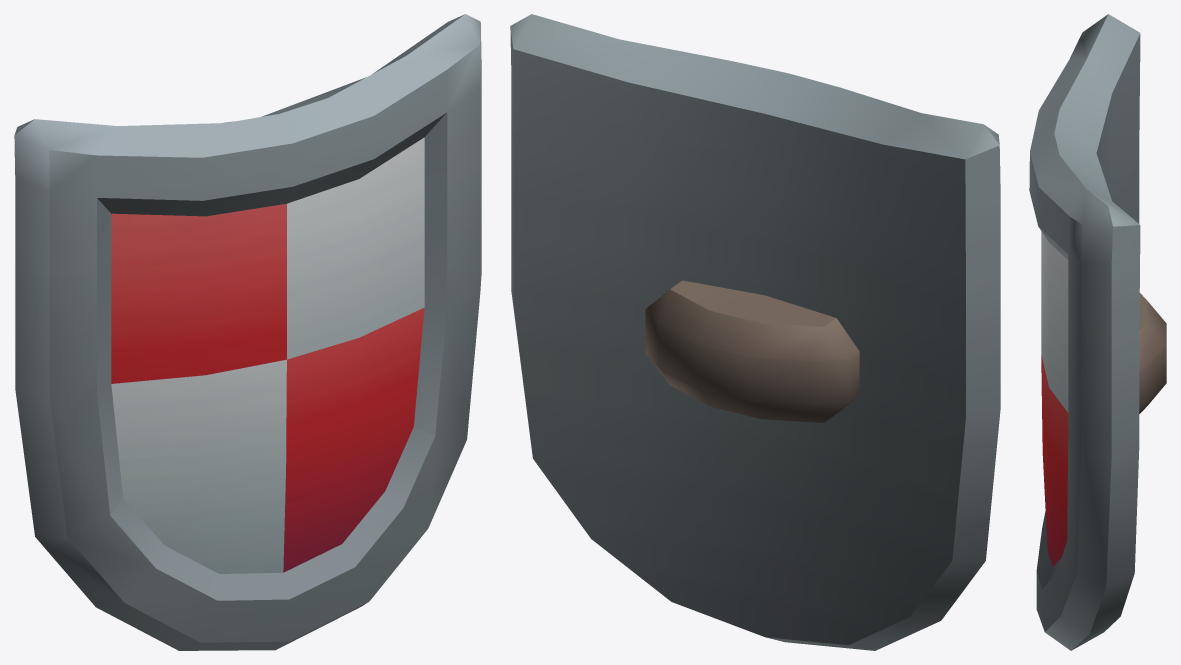
Rendered from shield_badge_color.glb.
3 renders of one model, left to right at view 1: azimuth 30°, elevation 25°; view 2: azimuth 150°, elevation 25°; view 3: azimuth 270°, elevation 25°, orthographic. The views are drawn at different scales.
Parts seen in each view (by area): view 1: shield_badge_color; view 2: shield_badge_color; view 3: shield_badge_color.
Boxes of the visible parts, x1=… form: shield_badge_color: x1=14, y1=14, x2=481, y2=650; shield_badge_color: x1=510, y1=14, x2=1000, y2=650; shield_badge_color: x1=1029, y1=14, x2=1166, y2=650.
Bounding box in the file's own units: 0.8827 × 1.02 × 0.2458.
1 material, 1 textured.
